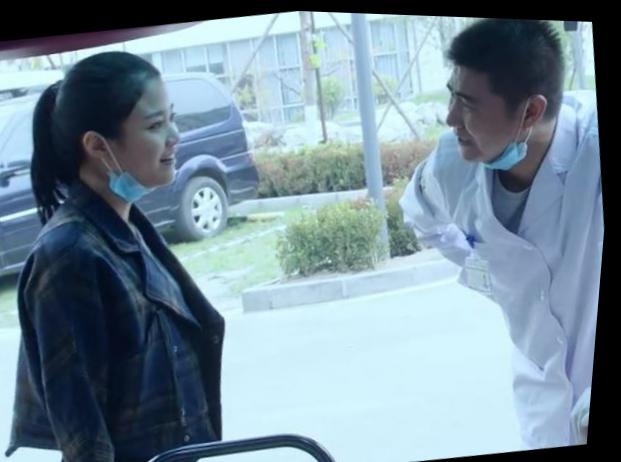WRONG: (438, 66, 517, 172), (116, 90, 191, 196)
